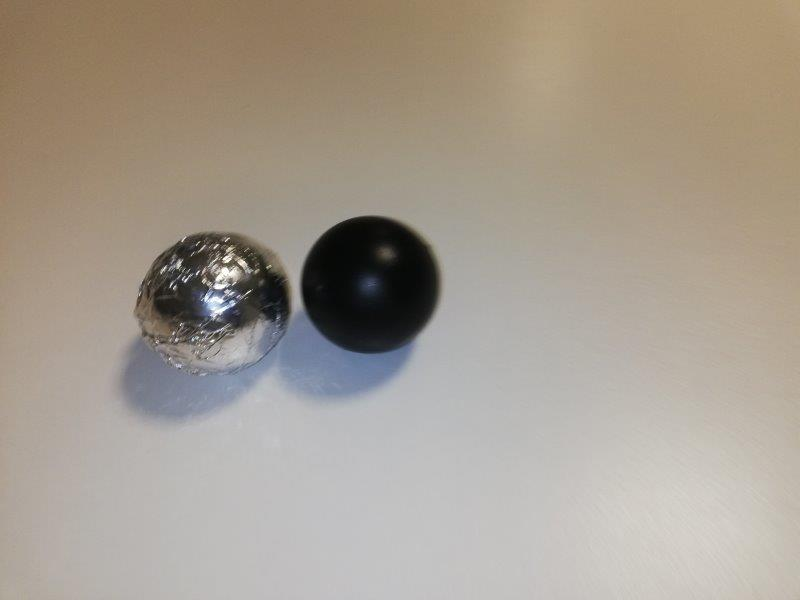bianca: (132, 226, 289, 376)
nera: (301, 216, 437, 358)
